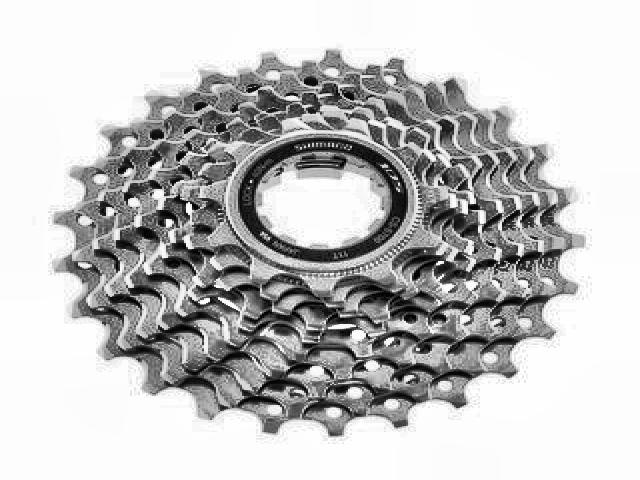cassette: (48, 46, 587, 438)
